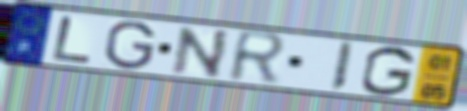G: (358, 44, 418, 98), (102, 20, 158, 71)
I: (327, 40, 357, 94)
L: (50, 14, 96, 65)
N: (170, 25, 234, 80)
R: (225, 28, 291, 88)
